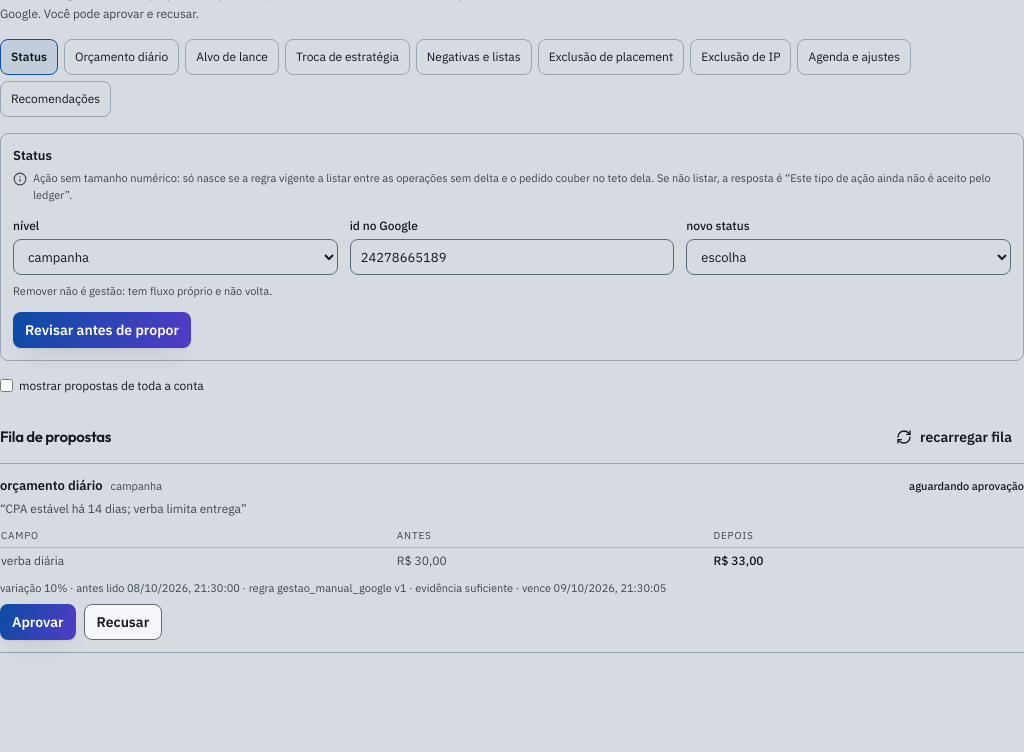
a fila: diff, decisão e desfecho › aprovar manda o diff gravado, sem retoque
The width and height of the screenshot is (1024, 752).
Click the button "Aprovar" at (38, 622), box [0,604,76,640]
(page scrolled)
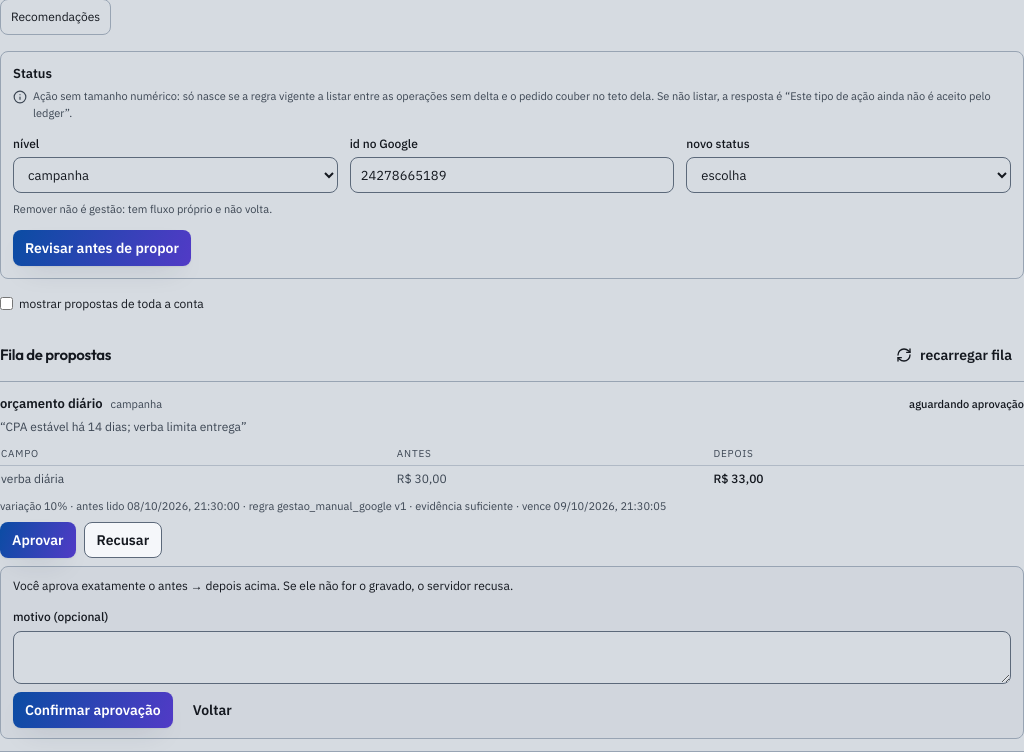
Click the button "Confirmar aprovação" at (93, 710), box [13,692,173,728]
(page scrolled)
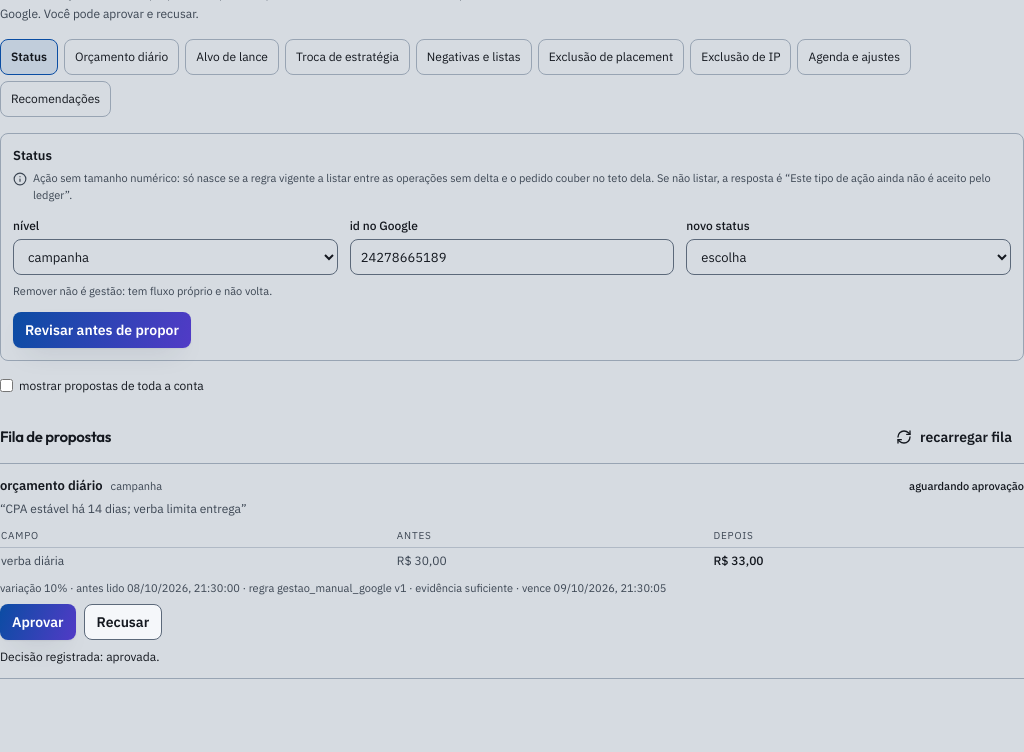
Now the text "Decisão registrada: aprovada." is shown, box [0,649,160,664]
